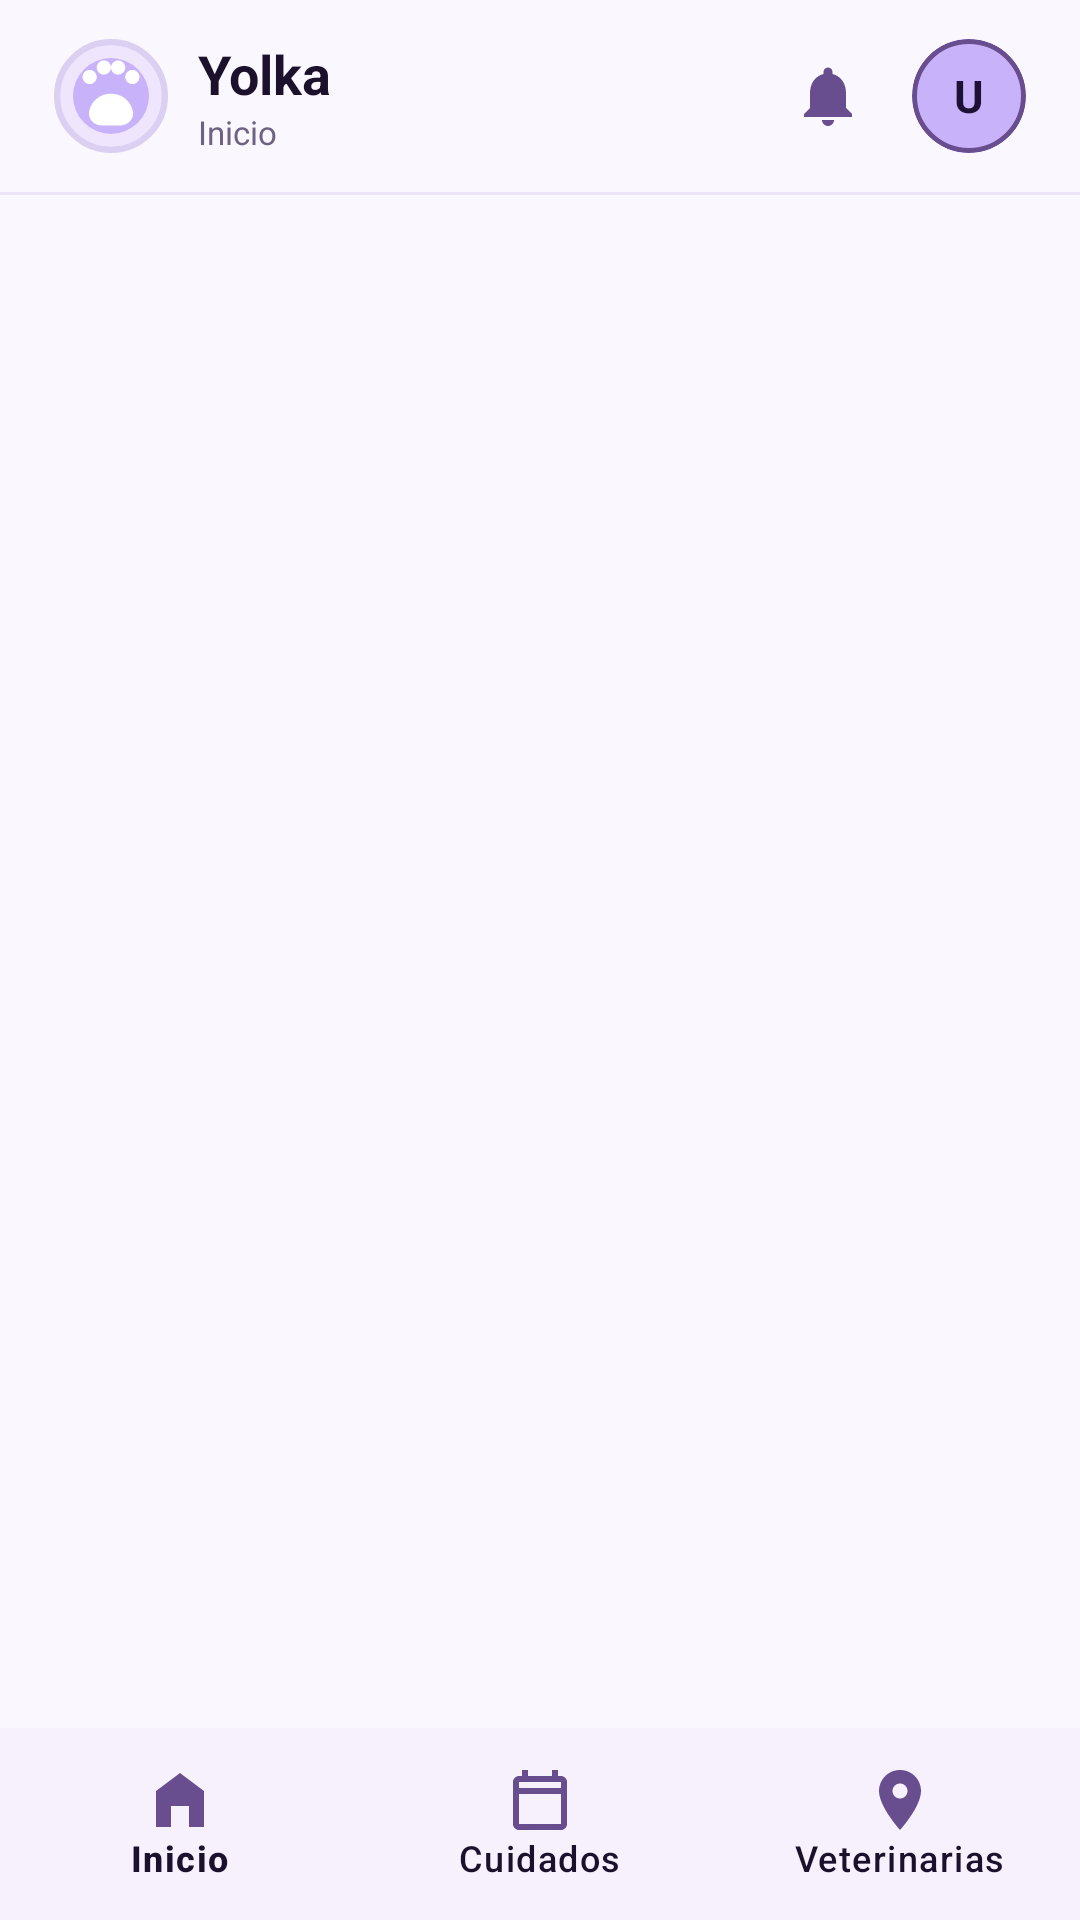

Named icons in this screenshot (1080*1920) and their bounding boxes, (x1, y1, x2, y2):
Notificaciones: (804, 67, 852, 126)
